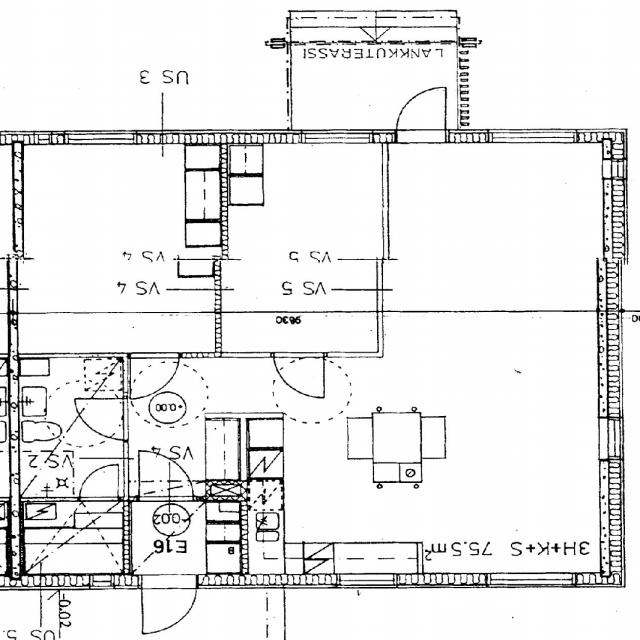door: (141, 573, 196, 633), (139, 451, 193, 501), (397, 90, 445, 143), (274, 353, 324, 400), (73, 398, 128, 440), (130, 353, 180, 399), (80, 465, 117, 501)
